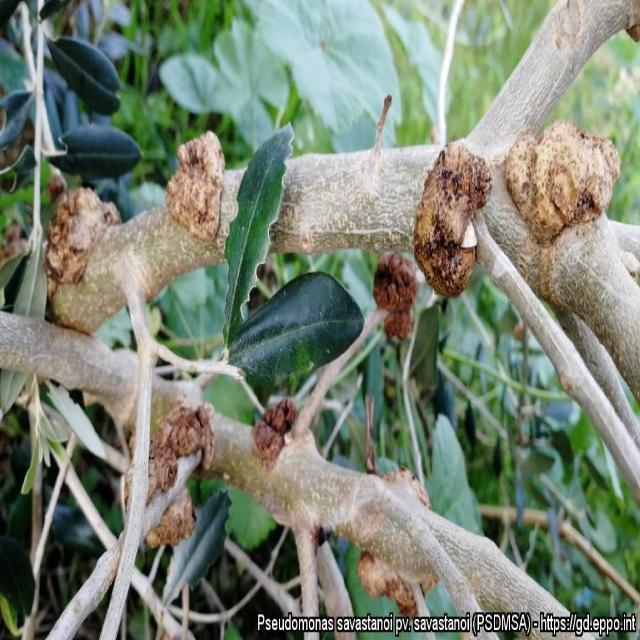Tuberculosis: (504, 121, 620, 245), (413, 143, 492, 296), (46, 175, 120, 304), (146, 402, 214, 504), (167, 131, 224, 242), (358, 552, 422, 616), (373, 252, 418, 340), (252, 398, 298, 468), (146, 488, 196, 550)
